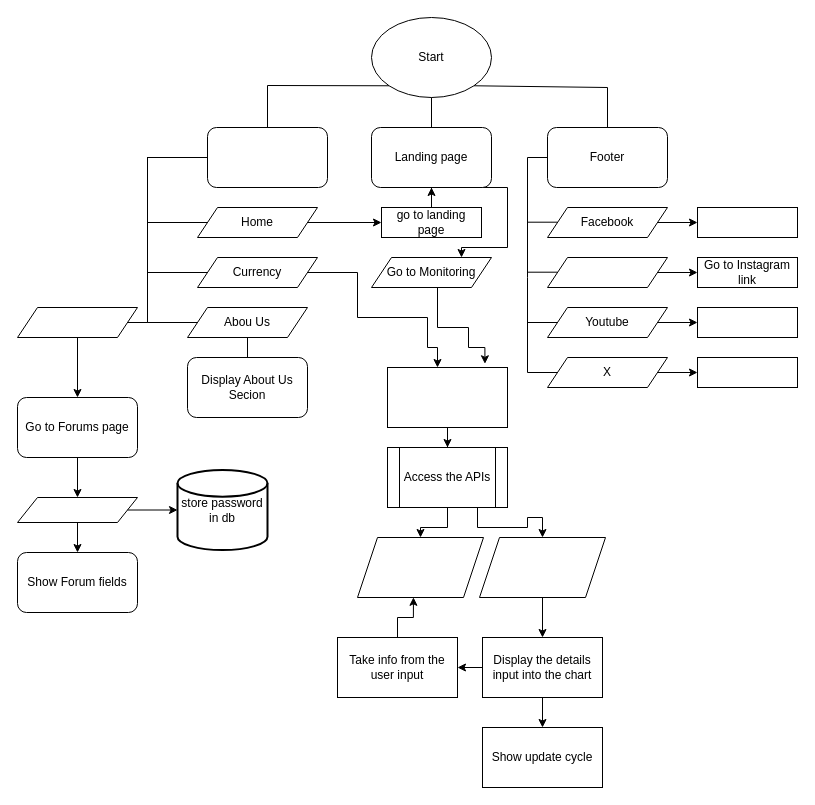
Some shapes in this 815 by 805 pixel diagram are drawn without their labels. Each missing label, with the centre of its shape:
"Forum" belongs at point 77,322.
"Go to Currency Monitoring" belongs at point 447,397.
"Go to Facebook link" belongs at point 747,222.
"Go to X link" belongs at point 747,372.
"Go to Youtube link" belongs at point 747,322.
"Header" belongs at point 267,157.
"Instagram" belongs at point 607,272.
"Login" belongs at point 77,509.
"Search" belongs at point 542,567.
"Set Crypto Se FIAT Currency Set Time Period" belongs at point 420,567.
